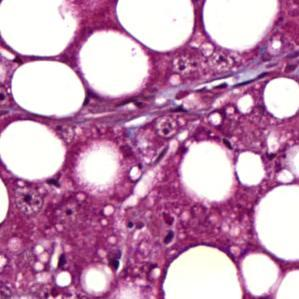steatosis: (89, 31, 153, 94)
